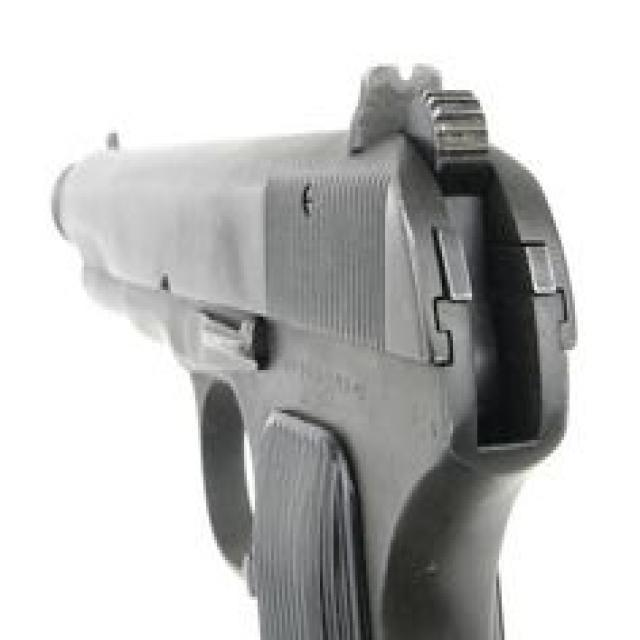semi automatic: (42, 52, 592, 640)
